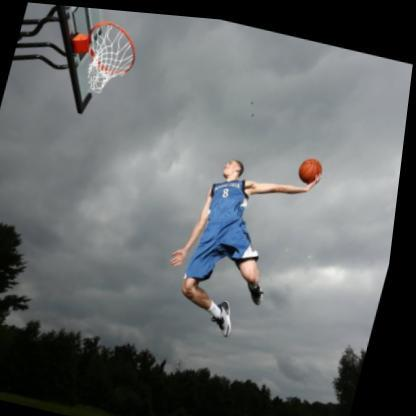basketball: (299, 149, 328, 179)
rim: (74, 15, 143, 99)
